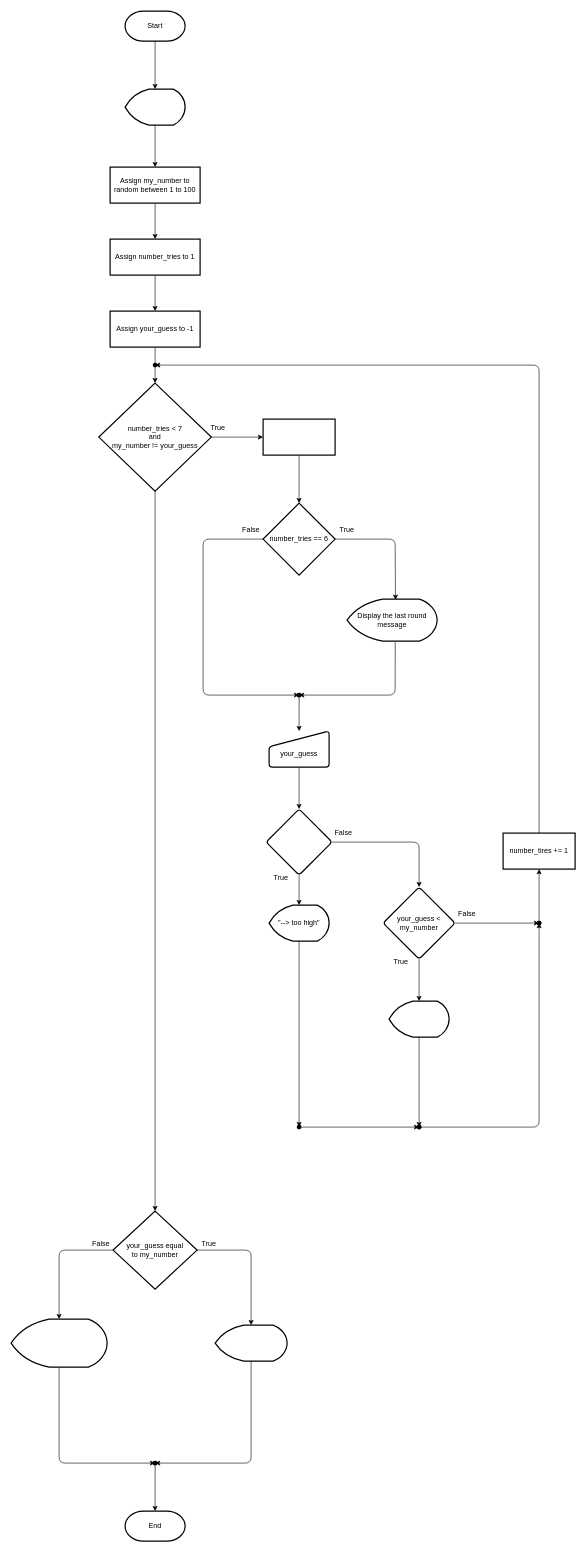
Some shapes in this 586 by 1552 pixel diagram are drawn without their labels. Each missing label, with the centre of its shape:
"--> too low": point 418,1018
Display the congratulation message: point 250,1342
Display the incorrect message and answer the number: point 58,1342
Print welcome message: point 154,106
prompt_message = str(number_tries) + ">> ": point 298,436
your_guess > my_number: point 298,841
